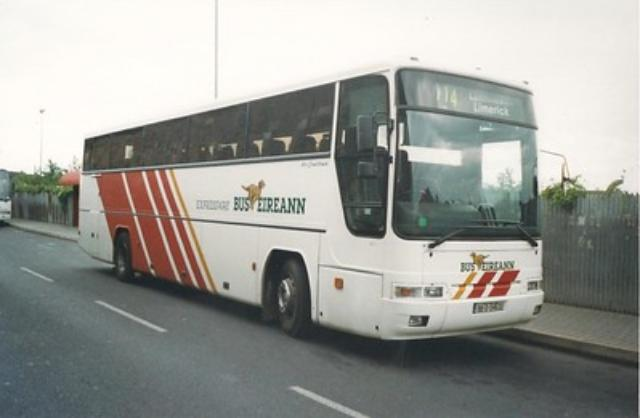bus: (77, 56, 545, 342)
